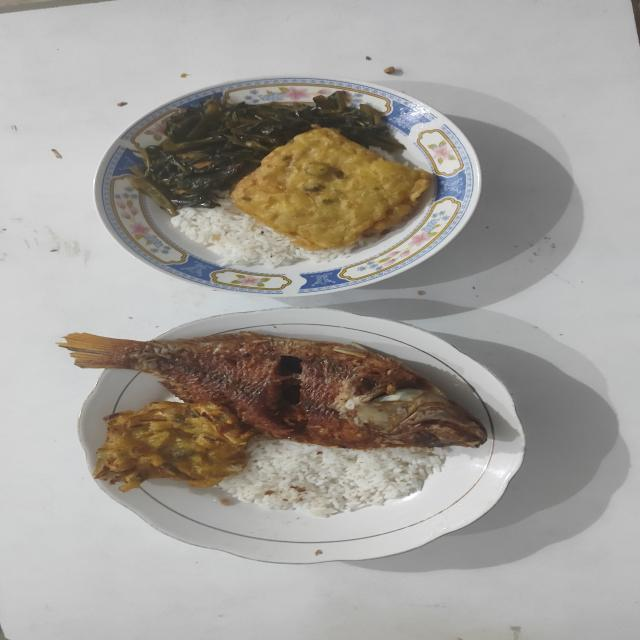ikan_mujair: (61, 331, 487, 449)
nasi_putih: (219, 440, 452, 518), (171, 198, 350, 268)
tumis_kangkung: (136, 89, 402, 215)
